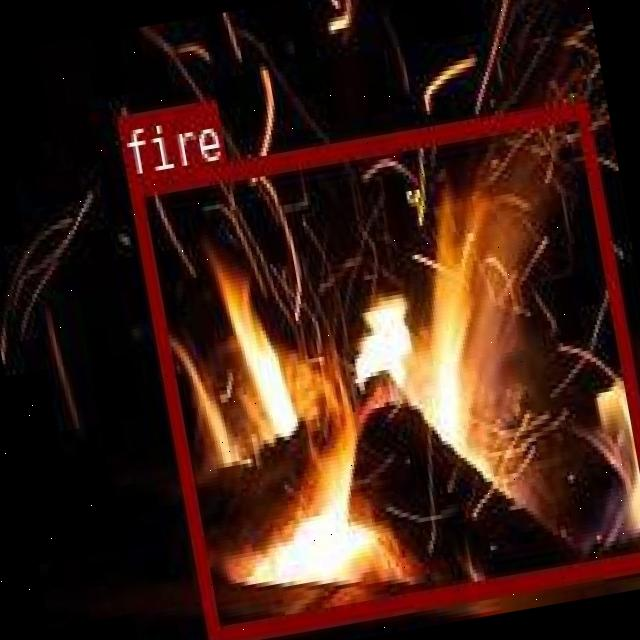fire: (124, 97, 640, 640)
